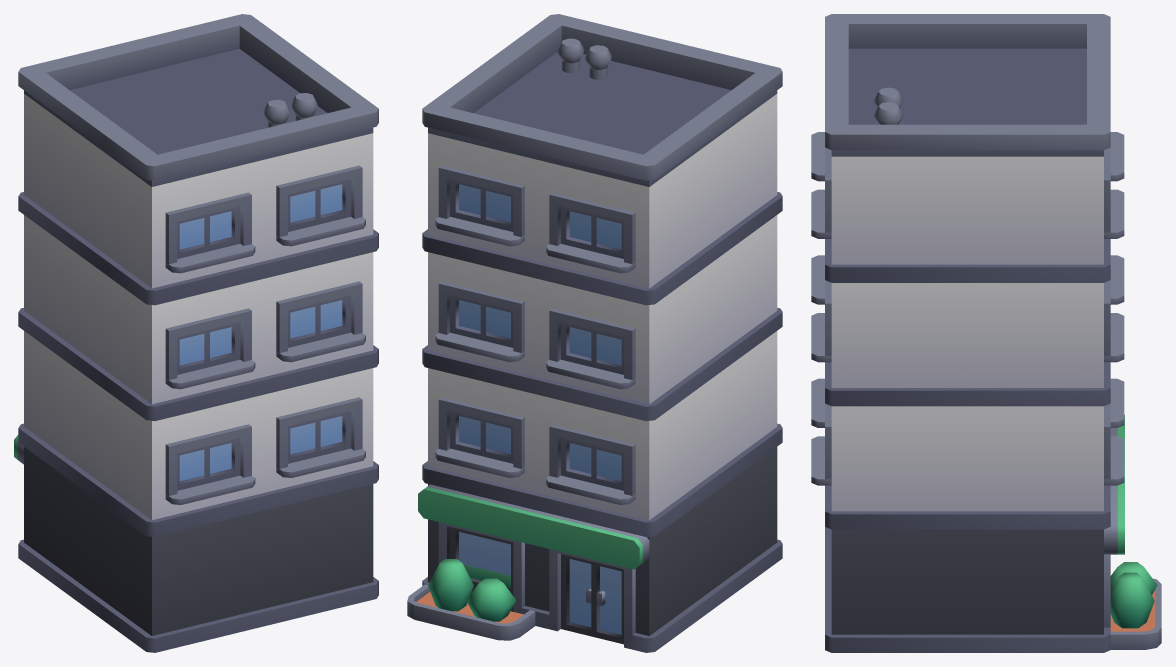
Rendered from k_c_building-f.glb.
3 views of the same model, side by side, from view 1: azimuth 30°, elevation 25°; view 2: azimuth 150°, elevation 25°; view 3: azimuth 270°, elevation 25° (orthographic). The views are drawn at different scales.
Visible parts, largest first — view 1: building-f; view 2: building-f; view 3: building-f.
Boxes of the visible parts, left/top/right/bottom form: building-f: left=14, top=14, right=378, bottom=652; building-f: left=407, top=14, right=782, bottom=652; building-f: left=811, top=14, right=1161, bottom=652.
Size of the model in its own units: 0.84 by 1.69 by 1.03.
1 material, 1 textured.
